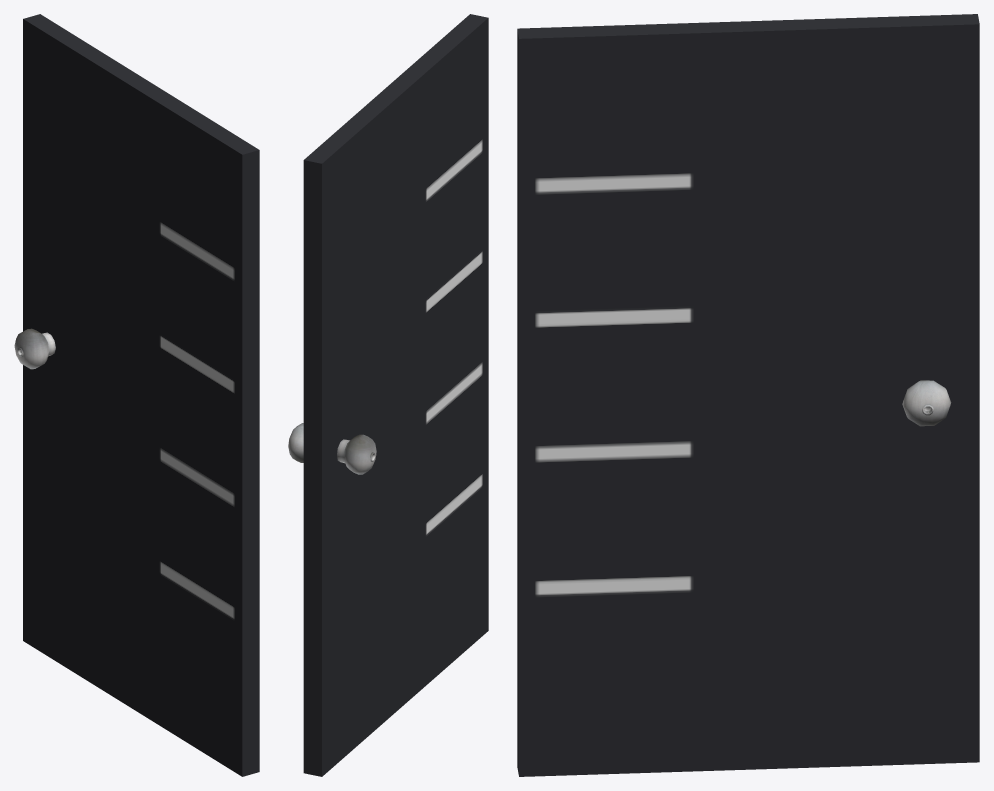
The model's file is Door.fbx.
3 views of the same model, side by side, from view 1: azimuth 30°, elevation 25°; view 2: azimuth 150°, elevation 25°; view 3: azimuth 270°, elevation 25° (orthographic). The views are drawn at different scales.
Visible parts, largest first — view 1: Door; view 2: Door; view 3: Door.
Part boxes in pixels (x1,y1,x2,y2): Door: (14,14,259,776); Door: (288,14,488,776); Door: (517,14,979,776).
Size of the model in its own units: 4.49 by 33.19 by 18.85.
2 materials, 2 textured.
